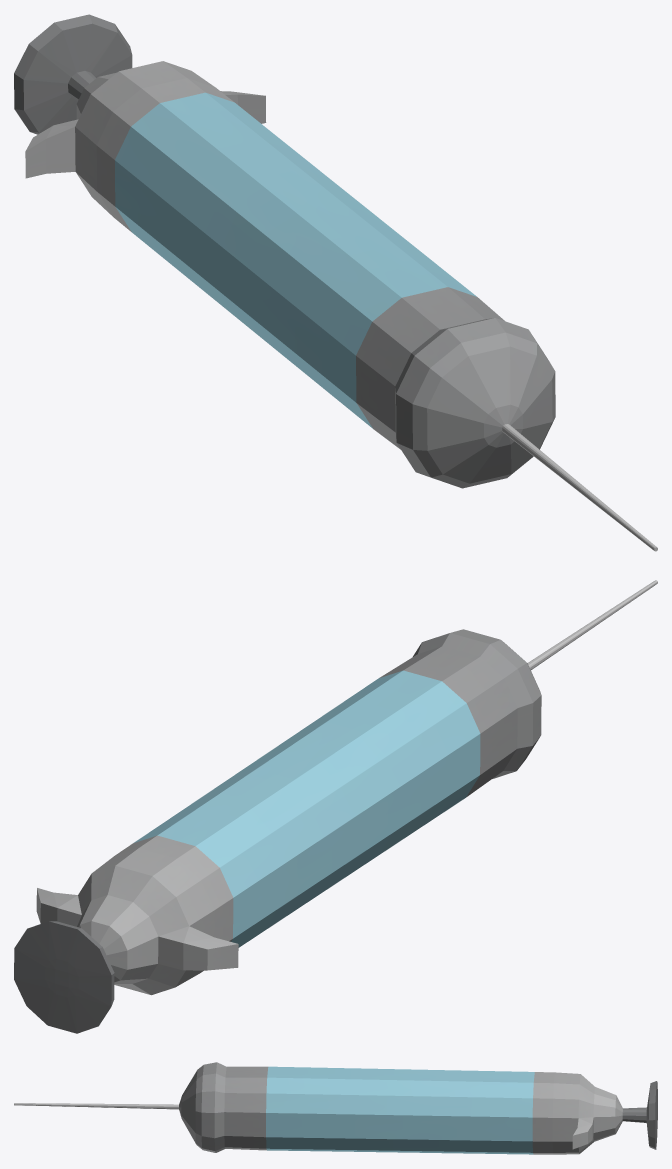
The model's file is syringe.obj.
3 views of the same model, one above another, from view 1: azimuth 30°, elevation 25°; view 2: azimuth 150°, elevation 25°; view 3: azimuth 270°, elevation 25° (orthographic). The views are drawn at different scales.
Visible parts, largest first — view 1: syringe_Material; view 2: syringe_Material; view 3: syringe_Material.
Part boxes in pixels (x1=…): syringe_Material: x1=14, y1=14, x2=657, y2=551; syringe_Material: x1=14, y1=580, x2=657, y2=1033; syringe_Material: x1=14, y1=1062, x2=657, y2=1154.
Size of the model in its own units: 0.0419 by 0.0265 by 0.1946.
